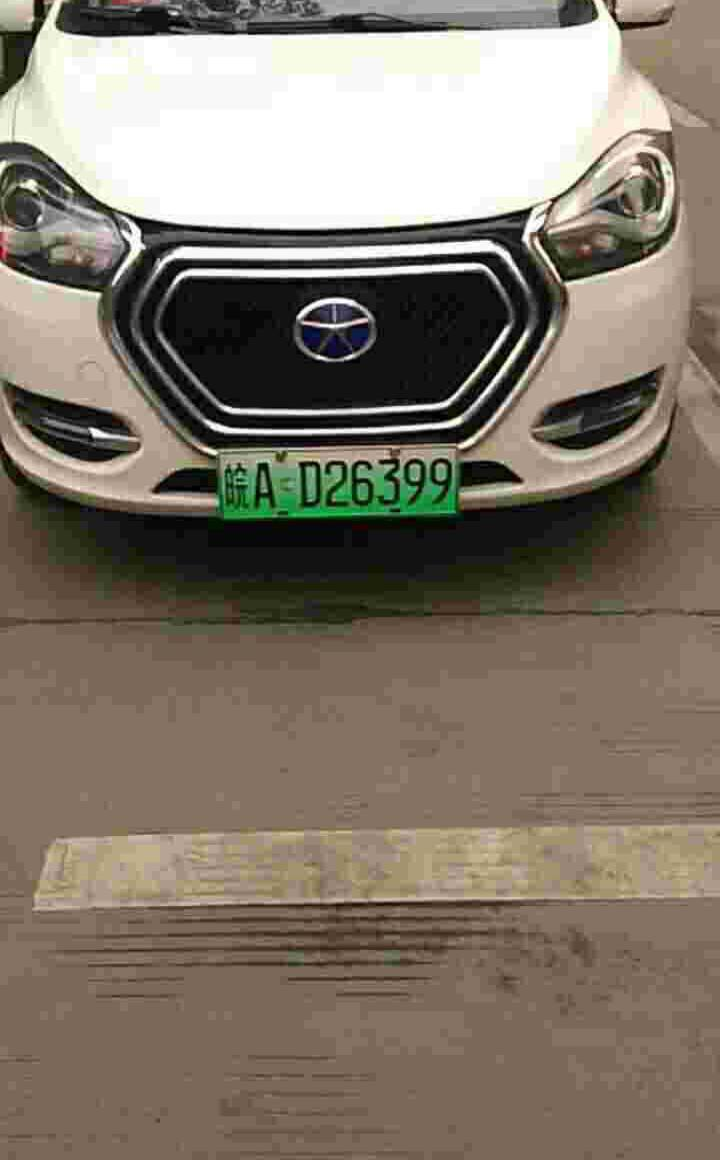car: (217, 448, 472, 526)
